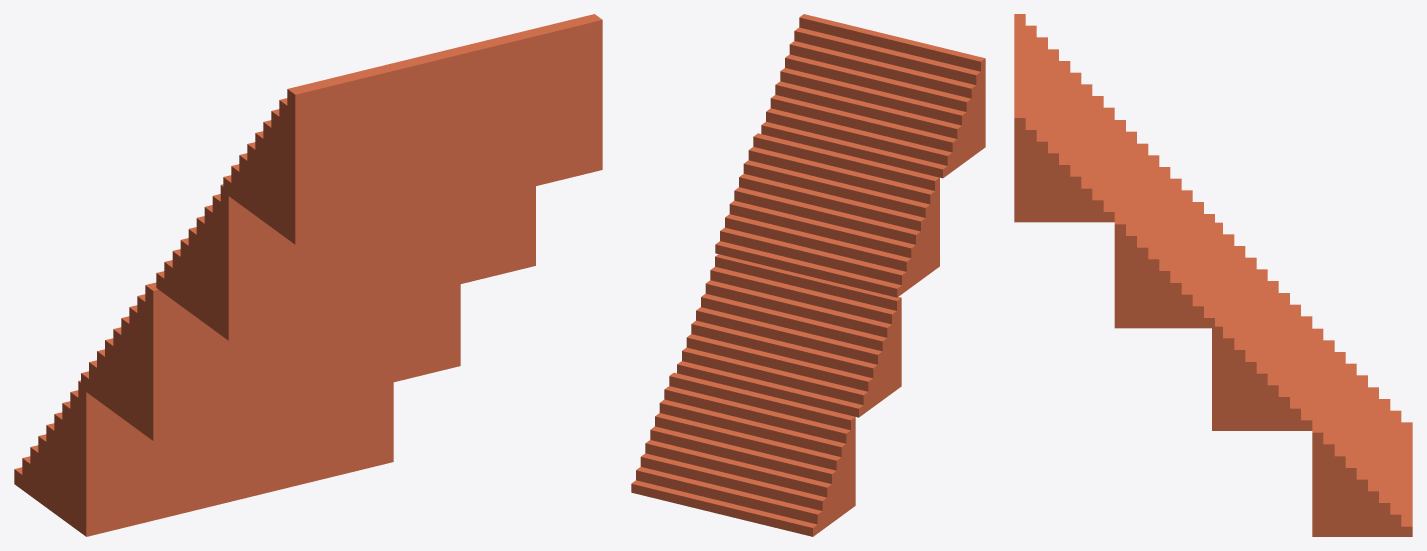
File: Stairs.fbx
The picture shows the model from 3 angles, left to right: view 1: azimuth 30°, elevation 25°; view 2: azimuth 150°, elevation 25°; view 3: azimuth 270°, elevation 25°; orthographic projection. The views are drawn at different scales.
Parts seen in each view (by area): view 1: Stairs; view 2: Stairs; view 3: Stairs.
Boxes of the visible parts, box(x1,y1,x2,y2) form: Stairs: box(14, 14, 602, 536); Stairs: box(631, 14, 985, 536); Stairs: box(1014, 14, 1412, 536).
Bounding box in the file's own units: 655 × 1201 × 1039.
